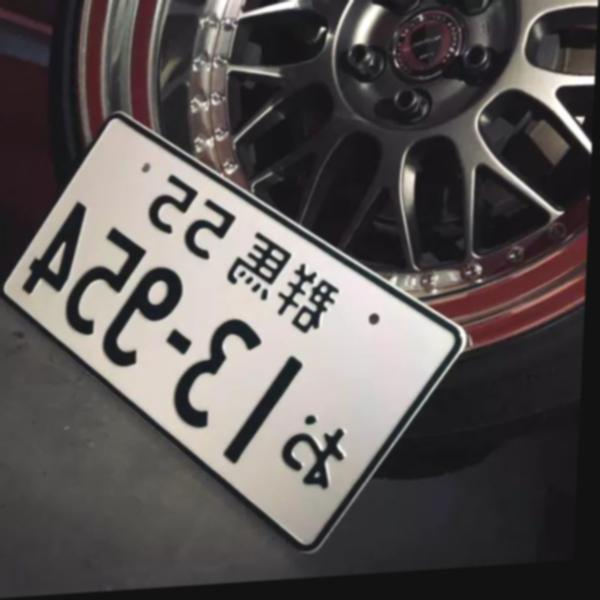License_Plate: (0, 74, 553, 592)
